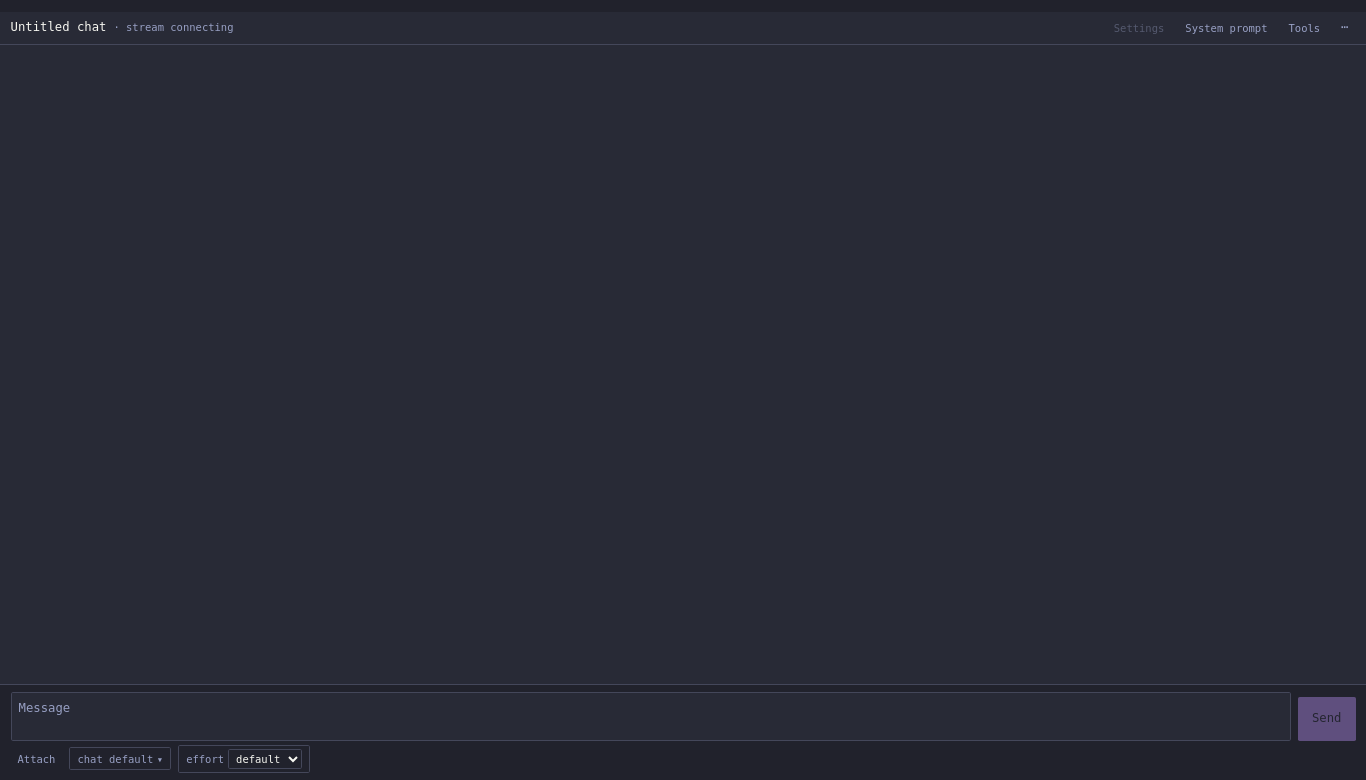
chat header: settings, system prompt and delete › deletes from the header menu after an inline confirm that names the sub-chats
What coordinates should you click on to do the following:
click the button named "chat menu"
I would click on:
 (1345, 28)
Its box is [1334, 16, 1356, 40].
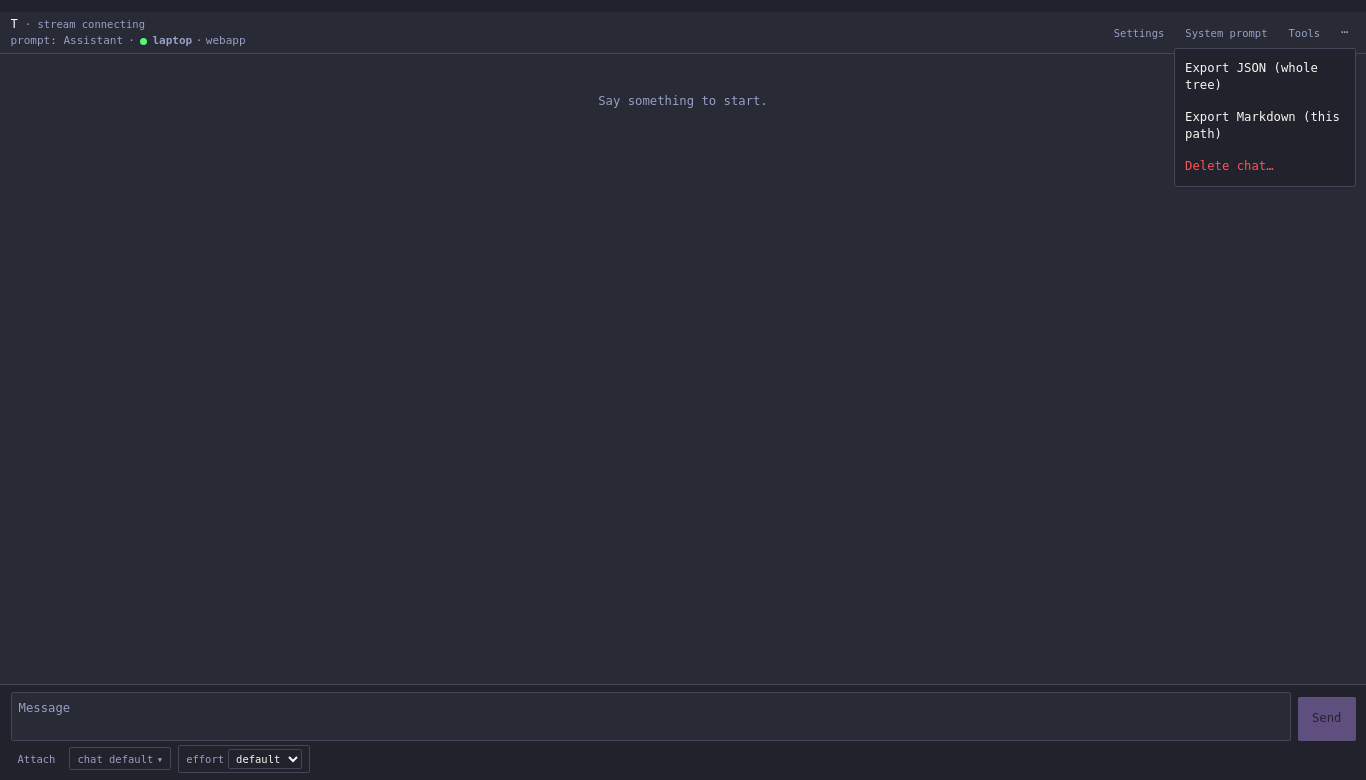
What coordinates should you click on to do the following:
click the menu item "Delete chat…"
I would click on:
 (1264, 167)
Its box is [1178, 151, 1351, 182].
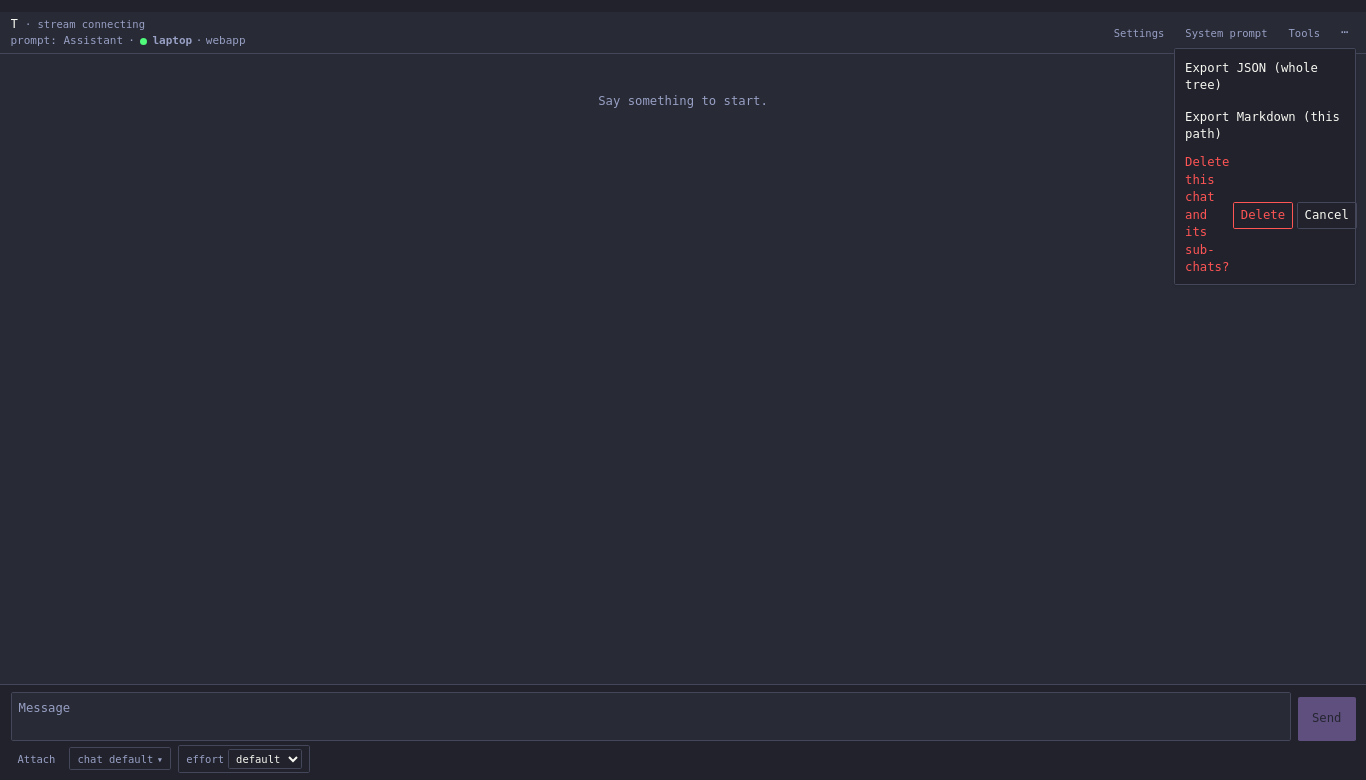
Expected: the text "Delete this chat and its sub-chats?" is shown, [1185, 154, 1229, 277]
What coordinates should you click on to do the following:
click the button "Delete"
I would click on:
 (1263, 216)
Its box is [1233, 202, 1293, 229].
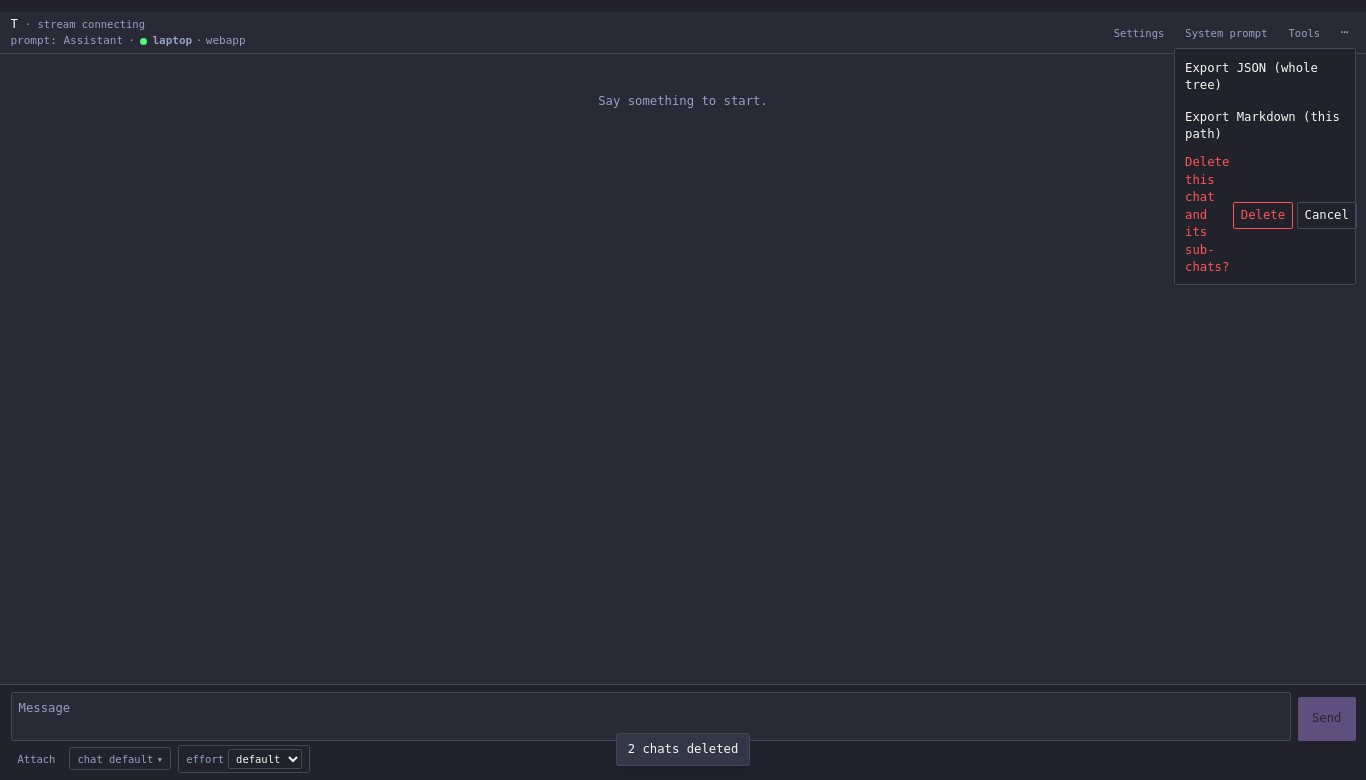
Expected: the text "2 chats deleted" is shown, [616, 732, 750, 766]
